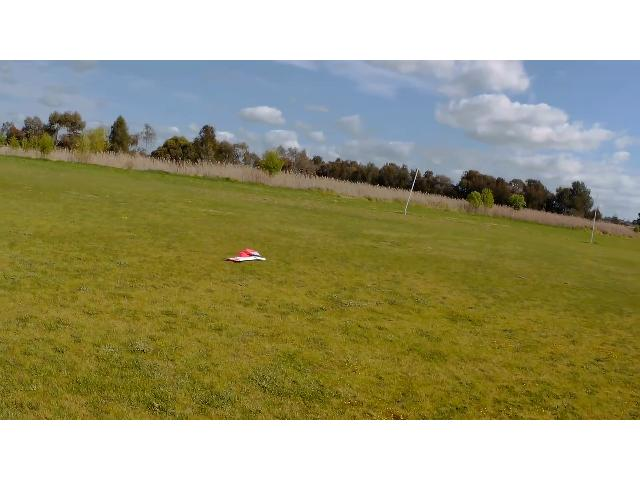Anti-Drone: (222, 249, 266, 263)
